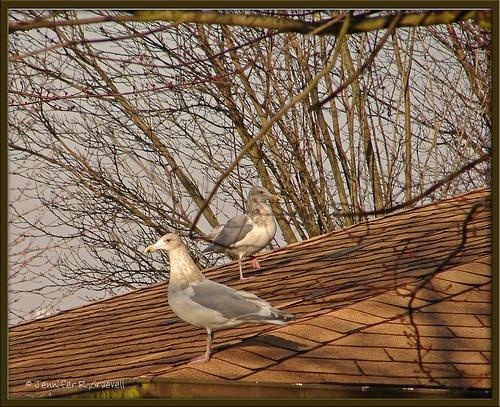bird: (143, 233, 304, 368), (197, 186, 284, 284)
